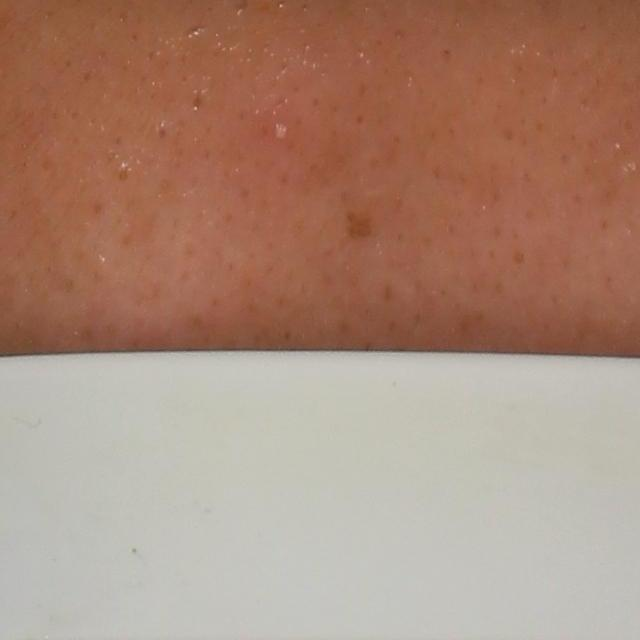pustule: (268, 117, 295, 144)
